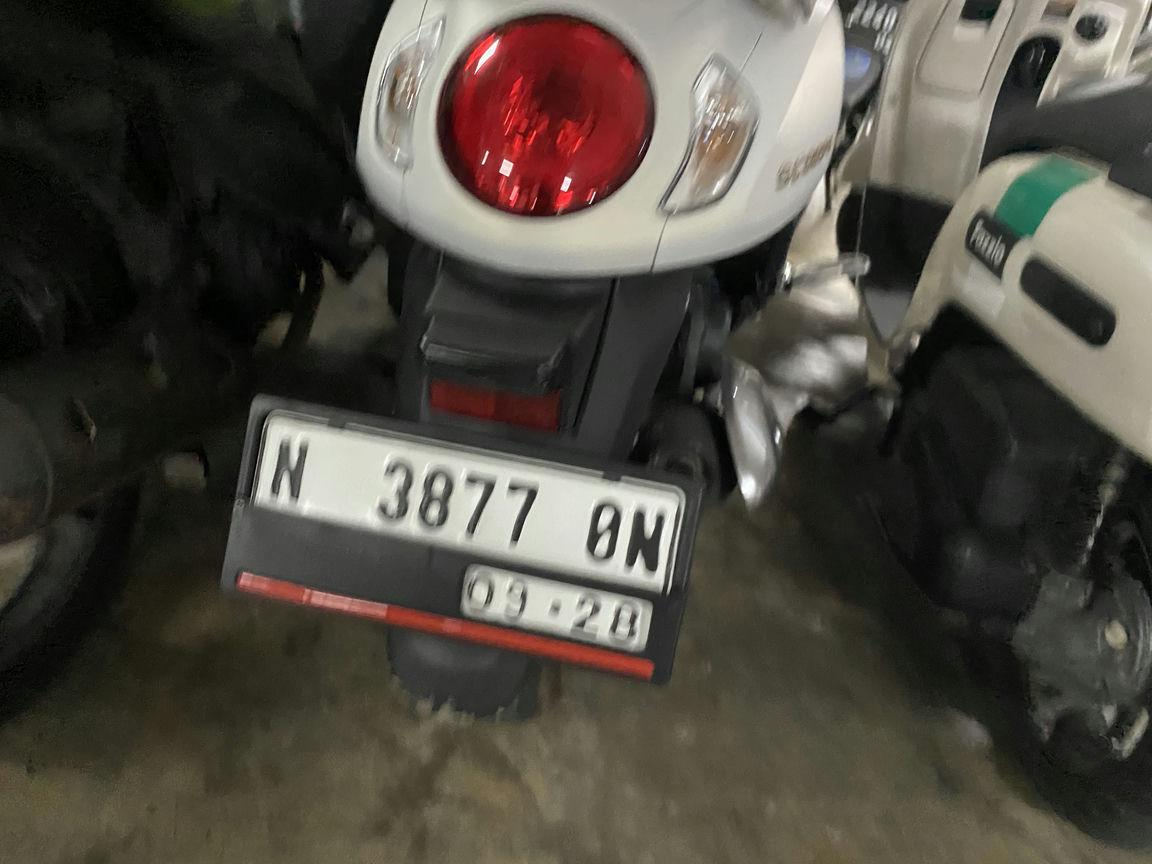plat: (223, 396, 700, 682)
